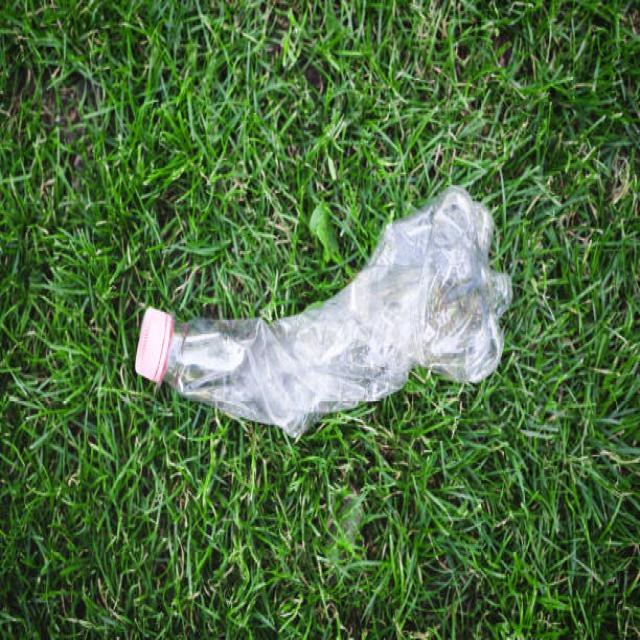plastic: (137, 278, 497, 441)
